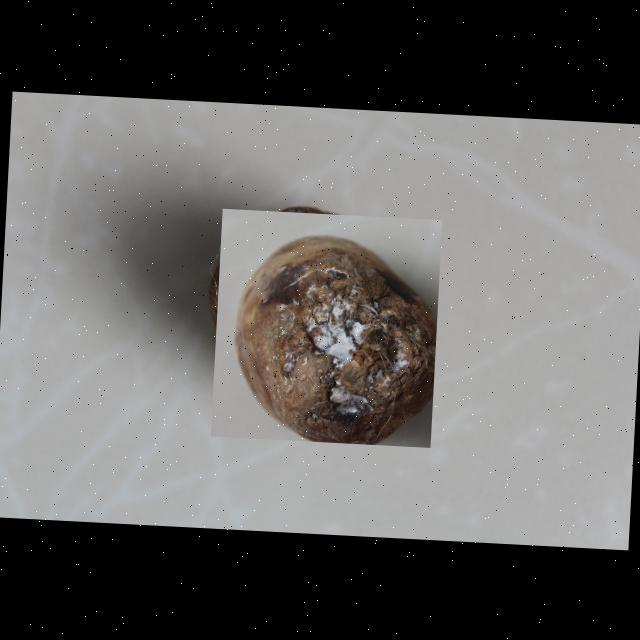Diseased-fungal potato: (209, 208, 442, 447)
